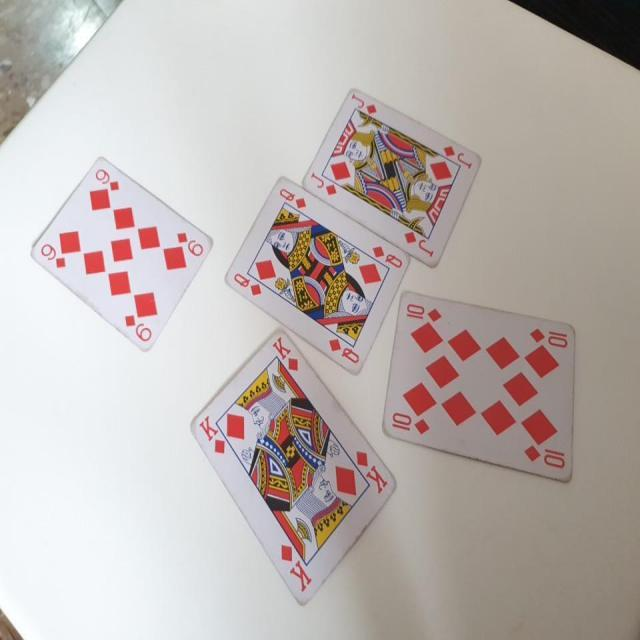10 of diamonds: (381, 286, 580, 484)
9 of diamonds: (28, 154, 214, 352)
jack of diamonds: (300, 84, 484, 268)
king of diamonds: (188, 327, 398, 607)
queen of diamonds: (222, 176, 410, 375)
